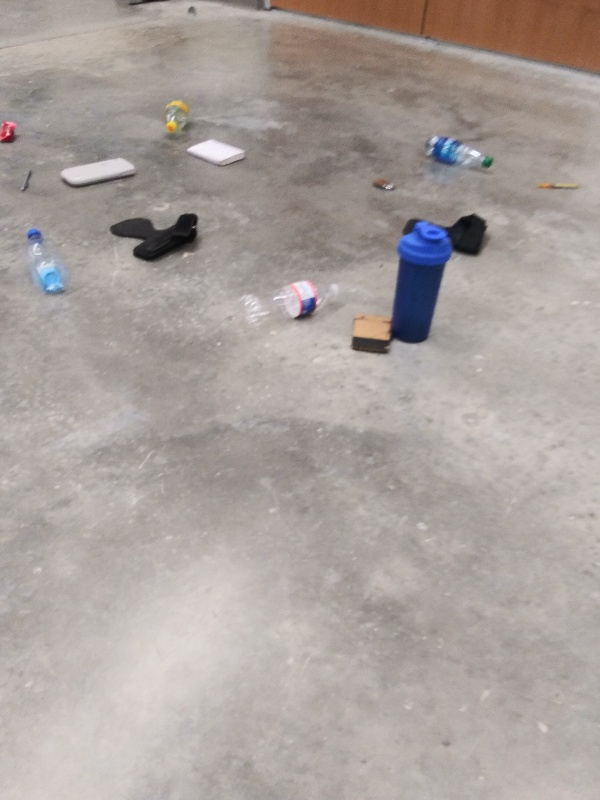bottle: (233, 271, 349, 330), (20, 223, 73, 299), (420, 132, 496, 178), (157, 95, 192, 139)
